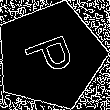P_E: (19, 30, 81, 82)
